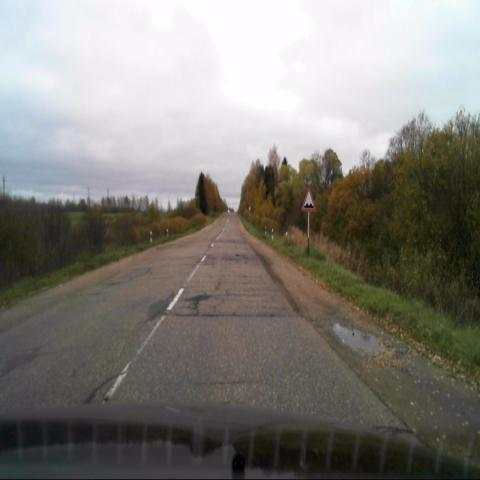1_16: (302, 188, 316, 213)
